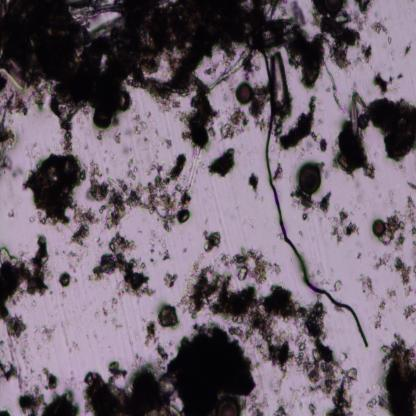Air bubble: (271, 51, 290, 116), (176, 209, 191, 224)
Background material: (0, 0, 249, 128), (179, 253, 300, 368), (168, 320, 255, 416), (298, 302, 360, 415), (90, 158, 192, 226), (84, 361, 181, 415), (0, 233, 49, 339), (26, 151, 88, 226), (89, 232, 156, 300), (310, 0, 372, 60), (367, 97, 416, 167), (378, 335, 416, 415), (276, 96, 328, 154), (287, 25, 329, 88), (337, 120, 375, 179), (219, 252, 282, 285), (382, 194, 416, 254), (189, 77, 215, 150), (0, 106, 23, 178), (70, 203, 100, 255), (291, 190, 332, 216), (218, 107, 250, 139), (331, 210, 360, 244), (392, 254, 414, 297), (182, 149, 204, 190), (56, 246, 86, 276), (253, 81, 270, 133), (206, 148, 236, 177), (45, 390, 81, 414), (0, 360, 24, 394), (148, 228, 171, 263), (93, 299, 120, 328), (16, 390, 45, 416), (271, 377, 287, 415), (156, 304, 180, 329), (142, 318, 159, 350), (372, 251, 394, 275), (356, 272, 376, 298), (174, 111, 190, 142), (247, 395, 270, 415), (32, 324, 56, 343), (374, 298, 387, 333), (40, 366, 58, 391), (368, 18, 390, 38), (202, 231, 220, 254), (374, 72, 390, 97), (64, 136, 84, 154), (132, 113, 147, 136), (247, 171, 260, 196), (386, 68, 404, 86), (162, 271, 178, 291), (156, 343, 171, 364), (272, 157, 284, 182), (402, 305, 416, 326), (58, 271, 72, 290), (366, 396, 377, 416), (332, 279, 344, 293), (158, 137, 173, 148), (6, 205, 17, 219), (111, 132, 122, 146), (404, 41, 412, 57), (0, 407, 12, 415), (386, 34, 394, 44)
Cellulose filter fibre: (207, 47, 252, 93)
Diatom: (252, 17, 300, 52), (298, 163, 322, 194), (113, 89, 131, 113), (349, 96, 359, 136), (235, 82, 252, 104), (371, 218, 386, 238), (407, 181, 416, 190)
